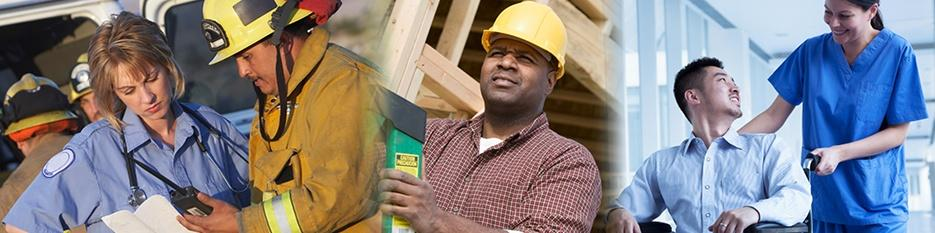helmet: (201, 1, 313, 67), (481, 1, 570, 82), (2, 75, 80, 138)
